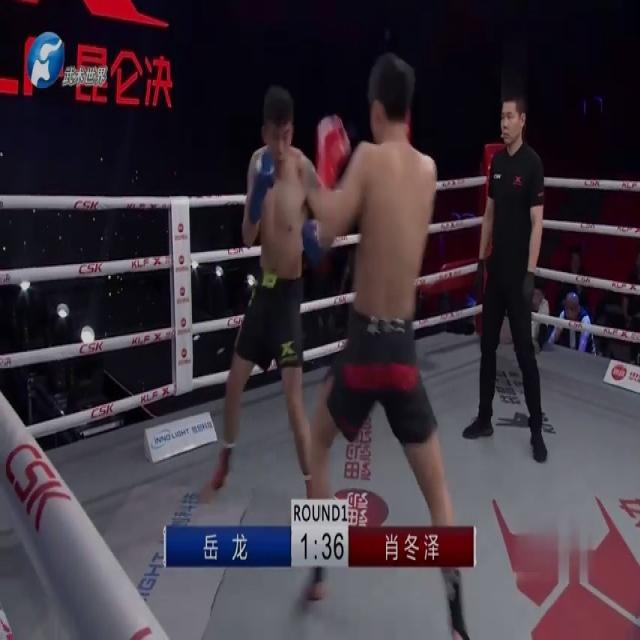fight: (201, 49, 476, 639)
non-fight: (459, 86, 556, 462)
